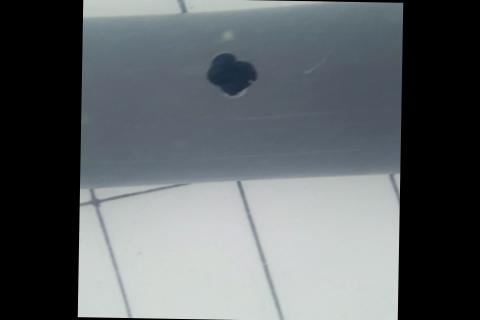kebocoran: (203, 49, 260, 98)
